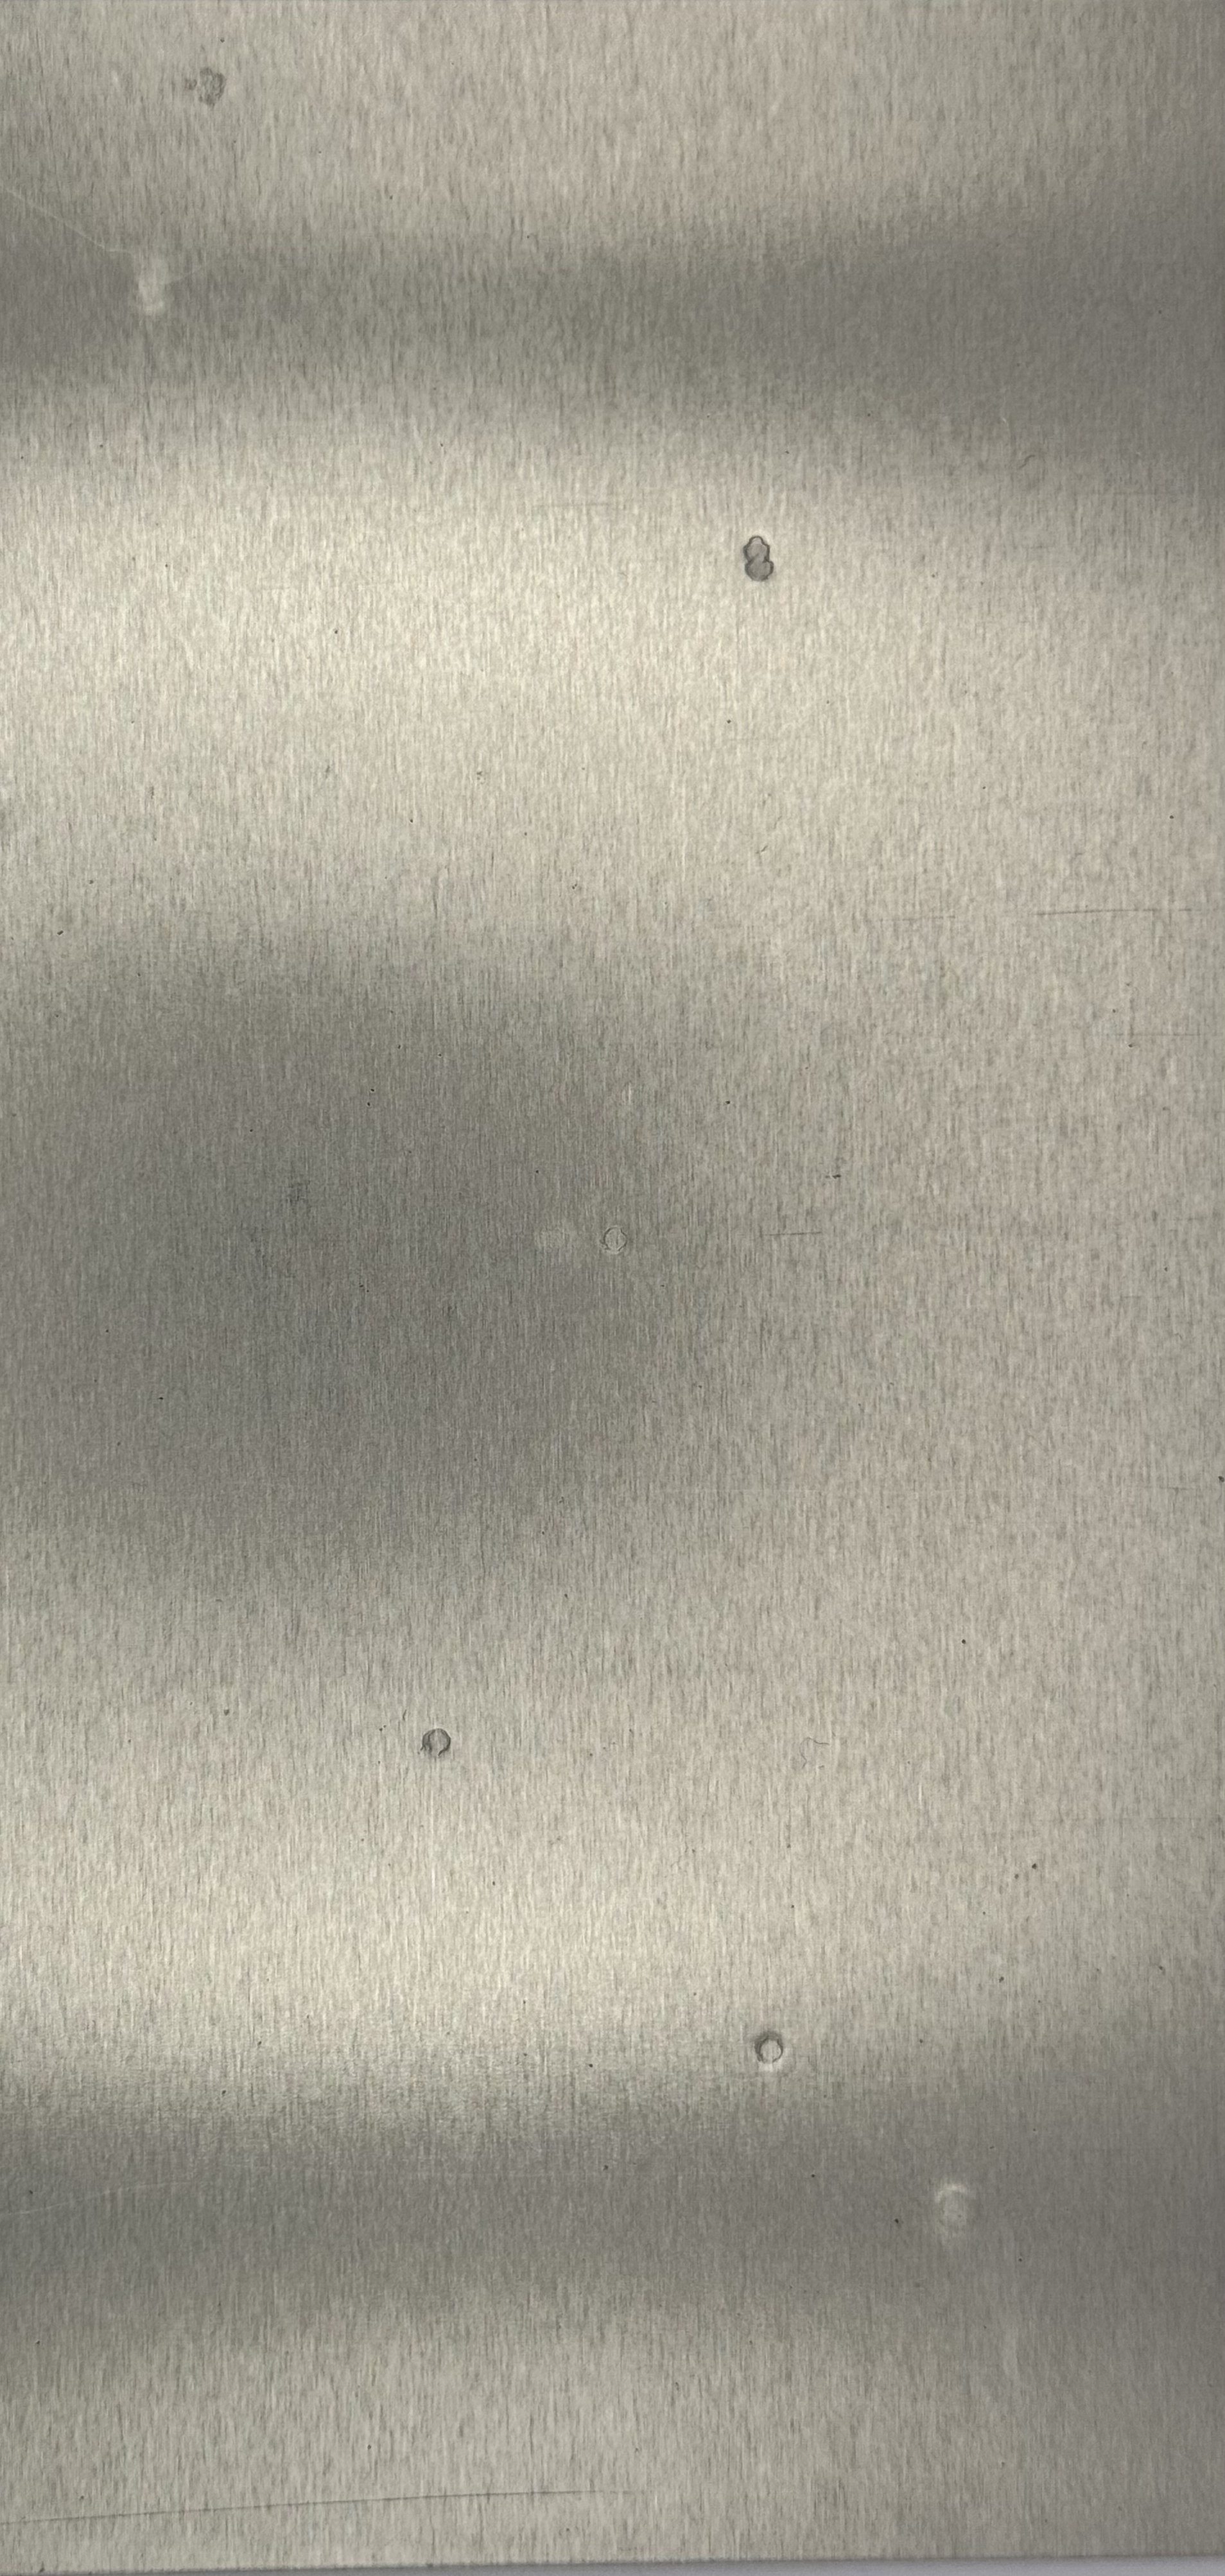Delle: (48, 194, 245, 347), (709, 509, 813, 614), (159, 49, 253, 120), (512, 1194, 590, 1280), (921, 2175, 998, 2249), (739, 2022, 803, 2077), (588, 1212, 645, 1265), (412, 1722, 457, 1768)
